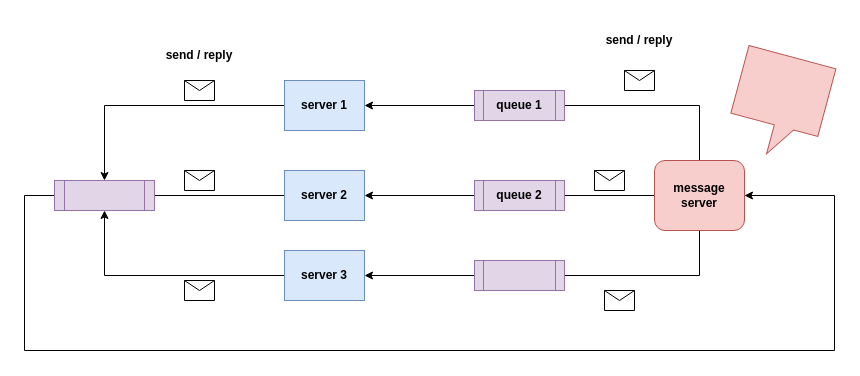
This 860x376 diagram has some shape labels left out. Each missing label, with the centre of its shape:
"message server queue" goes at [104,195].
"queue 3" goes at [519,275].
"select server to send message" goes at [779,105].
